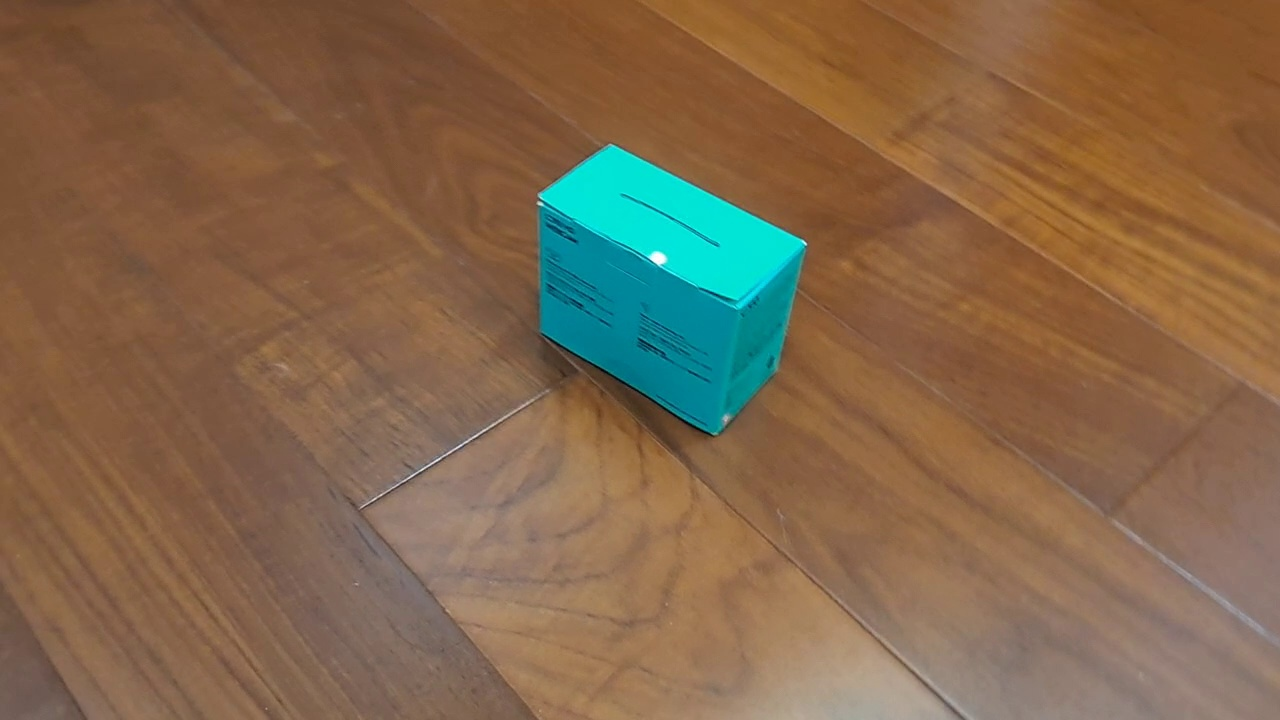webcam: (535, 142, 809, 439)
